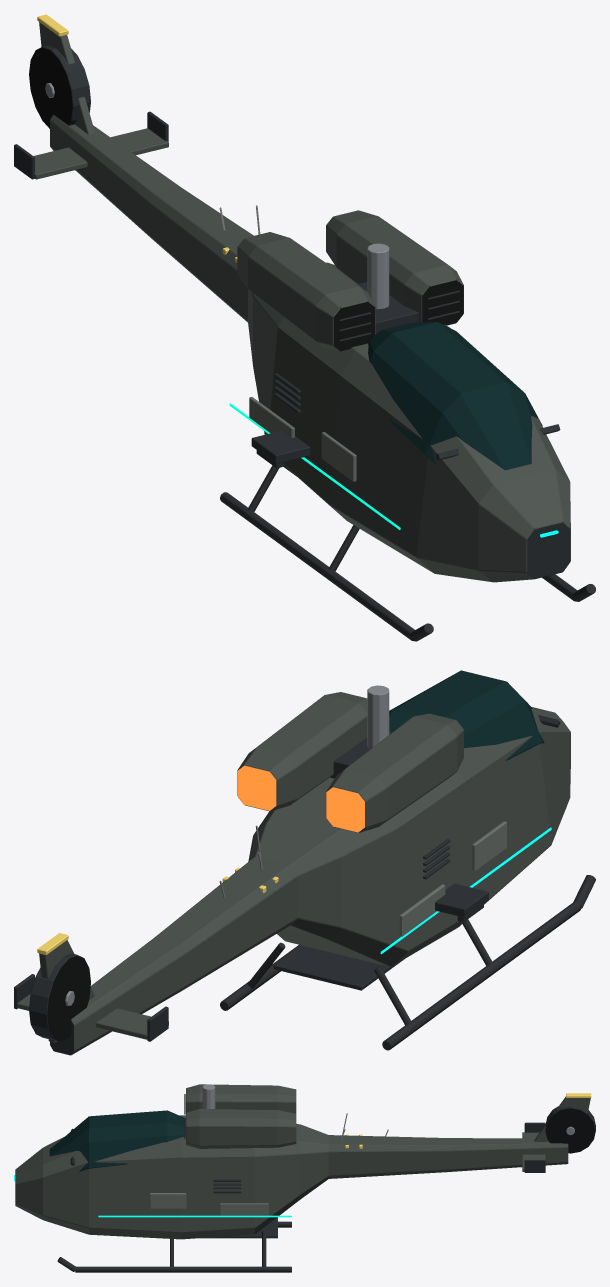
The model's file is Chassis_Lifter.fbx.
3 views of the same model, one above another, from view 1: azimuth 30°, elevation 25°; view 2: azimuth 150°, elevation 25°; view 3: azimuth 270°, elevation 25° (orthographic). The views are drawn at different scales.
Visible parts, largest first — view 1: Chassis_Lifter; view 2: Chassis_Lifter; view 3: Chassis_Lifter.
Part boxes in pixels (<box>): Chassis_Lifter: <box>14,14,595,641</box>; Chassis_Lifter: <box>14,670,595,1055</box>; Chassis_Lifter: <box>14,1084,595,1272</box>.
Bounding box in the file's own units: 2.75 × 3.91 × 12.63.
